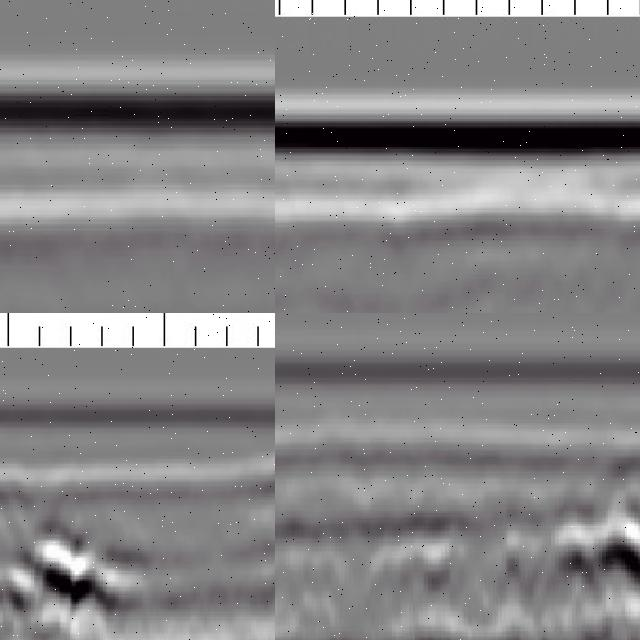loose: (1, 526, 136, 640), (554, 510, 640, 640)
